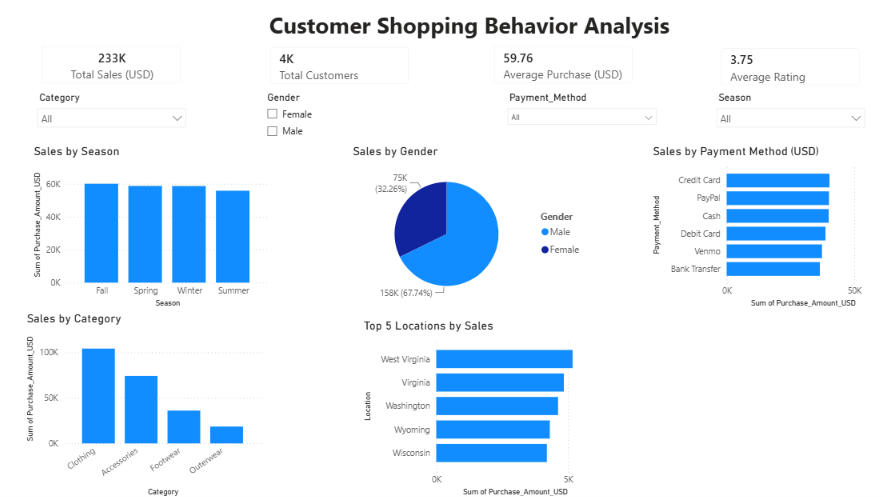

This screenshot's page, from the dashboard's own definition file:
{"tool":"powerbi","page":{"name":"Page 1","canvas":[1280,720],"ordinal":0},"visuals":[{"type":"cardVisual","fields":{"Data":["shopping_trends_updated.Total Sales"]},"box":[51.2,56.2,232.5,87.5],"z":0},{"type":"cardVisual","fields":{"Data":["shopping_trends_updated.Total Customers"]},"box":[377.5,57.5,232,87],"z":1000},{"type":"cardVisual","fields":{"Data":["shopping_trends_updated.Average Purchase"]},"box":[697.5,56.2,232,87.5],"z":2000},{"type":"cardVisual","fields":{"Data":["shopping_trends_updated.Average Rating"]},"box":[1021.2,58.8,232,87],"z":3000},{"type":"clusteredColumnChart","title":"Sales by Category","fields":{"Category":["shopping_trends_updated.Category"],"Y":["Sum(shopping_trends_updated.Purchase_Amount_USD)"]},"box":[41.1,451.1,345.6,268.9],"z":4000},{"type":"pieChart","title":"Sales by Gender","fields":{"Category":["shopping_trends_updated.Gender"],"Y":["Sum(shopping_trends_updated.Purchase_Amount_USD)"]},"box":[506.7,213.3,344.4,237.8],"z":5000},{"type":"clusteredColumnChart","title":"Sales by Season","fields":{"Category":["shopping_trends_updated.Season"],"Y":["Sum(shopping_trends_updated.Purchase_Amount_USD)"]},"box":[51.1,213.3,345.6,237.8],"z":6000},{"type":"clusteredBarChart","title":"Top 5 Locations by Sales","fields":{"Category":["shopping_trends_updated.Location"],"Y":["Sum(shopping_trends_updated.Purchase_Amount_USD)"]},"box":[523.3,461.1,346.7,258.9],"z":7000},{"type":"clusteredBarChart","title":"Sales by Payment Method (USD)","fields":{"Y":["Sum(shopping_trends_updated.Purchase_Amount_USD)"],"Category":["shopping_trends_updated.Payment_Method"]},"box":[935.6,213.3,344.4,237.8],"z":8000},{"type":"slicer","fields":{"Values":["shopping_trends_updated.Category"]},"box":[51.1,133.3,232.2,80],"z":9000},{"type":"slicer","fields":{"Values":["shopping_trends_updated.Gender"]},"box":[377.8,133.3,232.2,80],"z":10000},{"type":"slicer","fields":{"Values":["shopping_trends_updated.Season"]},"box":[1021.1,133.3,232.2,80],"z":11000},{"type":"slicer","fields":{"Values":["shopping_trends_updated.Payment_Method"]},"box":[722.2,133.3,233.3,80],"z":12000},{"type":"textbox","box":[360,16.2,637.5,52.5],"z":12001}]}

Visuals, with their boxes in screenshot pixels (x1, y1, x2, y2), scaled from the page's 1280x720 canvas onto the 885x497 screenshot:
cardVisual - shopping_trends_updated.Total Sales: {"x1": 35, "y1": 39, "x2": 196, "y2": 99}
cardVisual - shopping_trends_updated.Total Customers: {"x1": 261, "y1": 40, "x2": 421, "y2": 100}
cardVisual - shopping_trends_updated.Average Purchase: {"x1": 482, "y1": 39, "x2": 643, "y2": 99}
cardVisual - shopping_trends_updated.Average Rating: {"x1": 706, "y1": 41, "x2": 866, "y2": 101}
"Sales by Category" clusteredColumnChart: {"x1": 28, "y1": 311, "x2": 267, "y2": 496}
"Sales by Gender" pieChart: {"x1": 350, "y1": 147, "x2": 588, "y2": 311}
"Sales by Season" clusteredColumnChart: {"x1": 35, "y1": 147, "x2": 274, "y2": 311}
"Top 5 Locations by Sales" clusteredBarChart: {"x1": 362, "y1": 318, "x2": 602, "y2": 496}
"Sales by Payment Method (USD)" clusteredBarChart: {"x1": 647, "y1": 147, "x2": 884, "y2": 311}
slicer - shopping_trends_updated.Category: {"x1": 35, "y1": 92, "x2": 196, "y2": 147}
slicer - shopping_trends_updated.Gender: {"x1": 261, "y1": 92, "x2": 422, "y2": 147}
slicer - shopping_trends_updated.Season: {"x1": 706, "y1": 92, "x2": 867, "y2": 147}
slicer - shopping_trends_updated.Payment_Method: {"x1": 499, "y1": 92, "x2": 661, "y2": 147}
textbox: {"x1": 249, "y1": 11, "x2": 690, "y2": 47}
